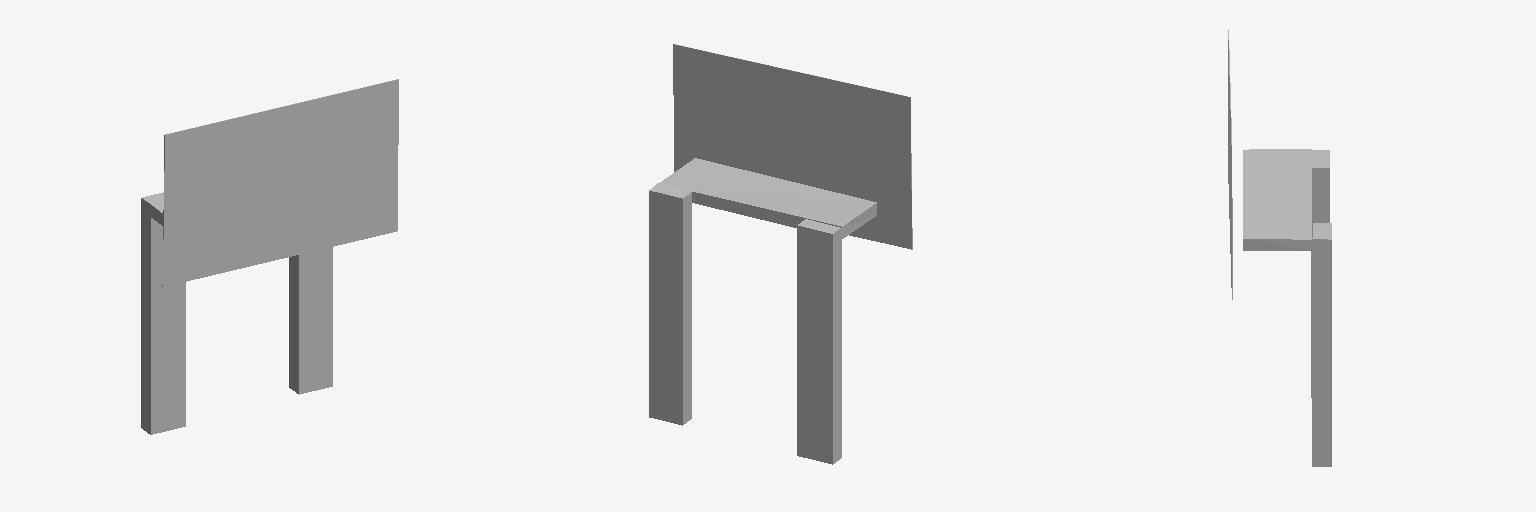
The model's file is textbox.obj.
The picture shows the model from 3 angles: view 1: azimuth 30°, elevation 25°; view 2: azimuth 150°, elevation 25°; view 3: azimuth 270°, elevation 25°; orthographic projection.
Parts seen in each view (by area): view 1: Cube; view 2: Cube; view 3: Cube.
Part boxes in pixels (bbox=[...]): Cube: bbox=[141, 79, 398, 434]; Cube: bbox=[649, 44, 912, 464]; Cube: bbox=[1228, 30, 1331, 466].
Bounding box in the file's own units: 3.28 × 4.44 × 1.24.